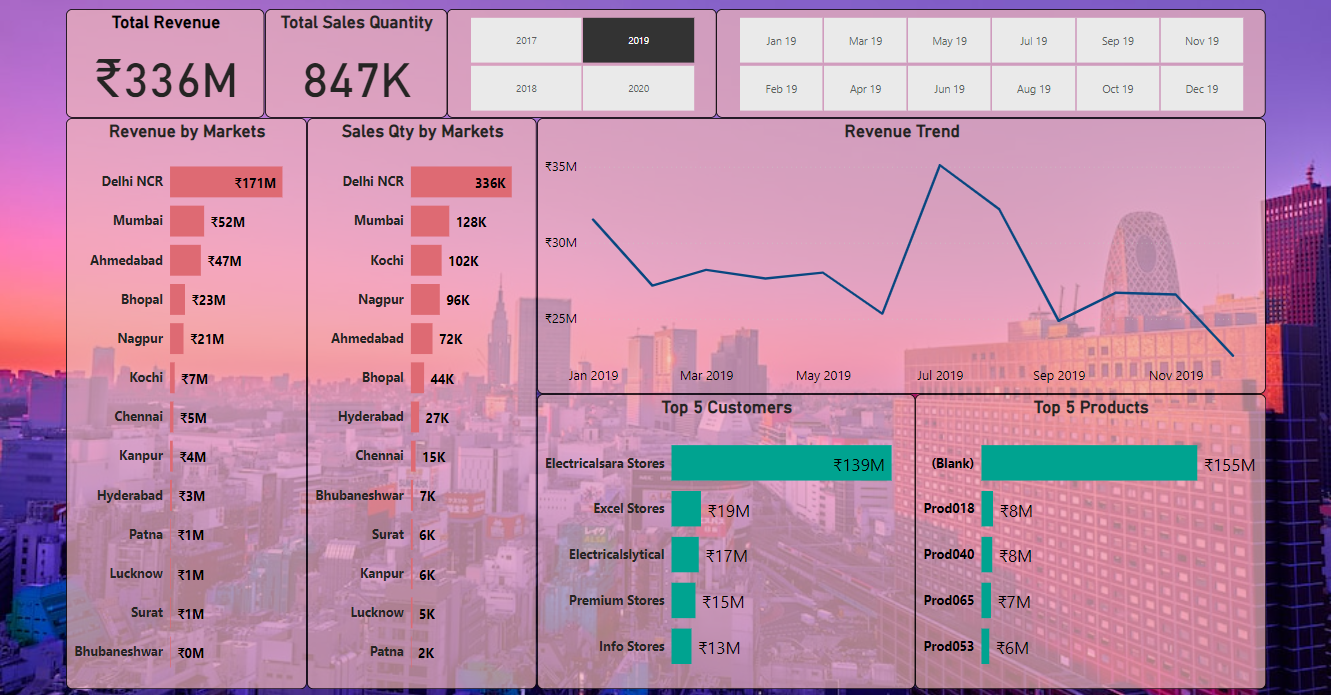

This screenshot's page, from the dashboard's own definition file:
{"tool":"powerbi","page":{"name":"Key Insights","canvas":[1500,850],"ordinal":0},"visuals":[{"type":"card","title":"Total Revenue","fields":{"Values":["BaseMeasures (2).Revenue"]},"box":[0,0,248.2,136],"z":0},{"type":"card","title":"Total Sales Quantity ","fields":{"Values":["BaseMeasures (2).Sales Qty"]},"box":[248.2,0,227.8,136],"z":1000},{"type":"barChart","title":"Revenue by Markets","fields":{"Y":["BaseMeasures (2).Revenue"],"Category":["sales markets.markets_name"]},"box":[0,136,300.9,714],"z":2000},{"type":"barChart","title":"Sales Qty by Markets","fields":{"Y":["BaseMeasures (2).Sales Qty"],"Category":["sales markets.markets_name"]},"box":[300.9,136,287.3,714],"z":3000},{"type":"slicer","fields":{"Values":["sales date.year"]},"box":[476,0,336.6,136],"z":4000},{"type":"slicer","fields":{"Values":["sales date.cy_date"]},"box":[812.6,0,686.8,136],"z":5000},{"type":"barChart","title":"Top 5 Customers","fields":{"Y":["BaseMeasures (2).Revenue"],"Category":["sales customers.custmer_name"]},"box":[588.2,481.1,472.6,368.9],"z":6000},{"type":"barChart","title":"Top 5 Products","fields":{"Y":["BaseMeasures (2).Revenue"],"Category":["sales products.product_code"]},"box":[1060.8,481.1,438.6,368.9],"z":7000},{"type":"lineChart","title":"Revenue Trend","fields":{"Y":["BaseMeasures (2).Revenue"],"Category":["sales date.cy_date"]},"box":[588.2,136,911.2,345.1],"z":8000}]}

Visuals, with their boxes in screenshot pixels (x1, y1, x2, y2):
"Total Revenue" card: 59/3/260/113
"Total Sales Quantity " card: 260/3/444/113
"Revenue by Markets" barChart: 59/113/302/691
"Sales Qty by Markets" barChart: 302/113/534/691
slicer - sales date.year: 444/3/716/113
slicer - sales date.cy_date: 716/3/1271/113
"Top 5 Customers" barChart: 534/392/916/691
"Top 5 Products" barChart: 916/392/1271/691
"Revenue Trend" lineChart: 534/113/1271/392
